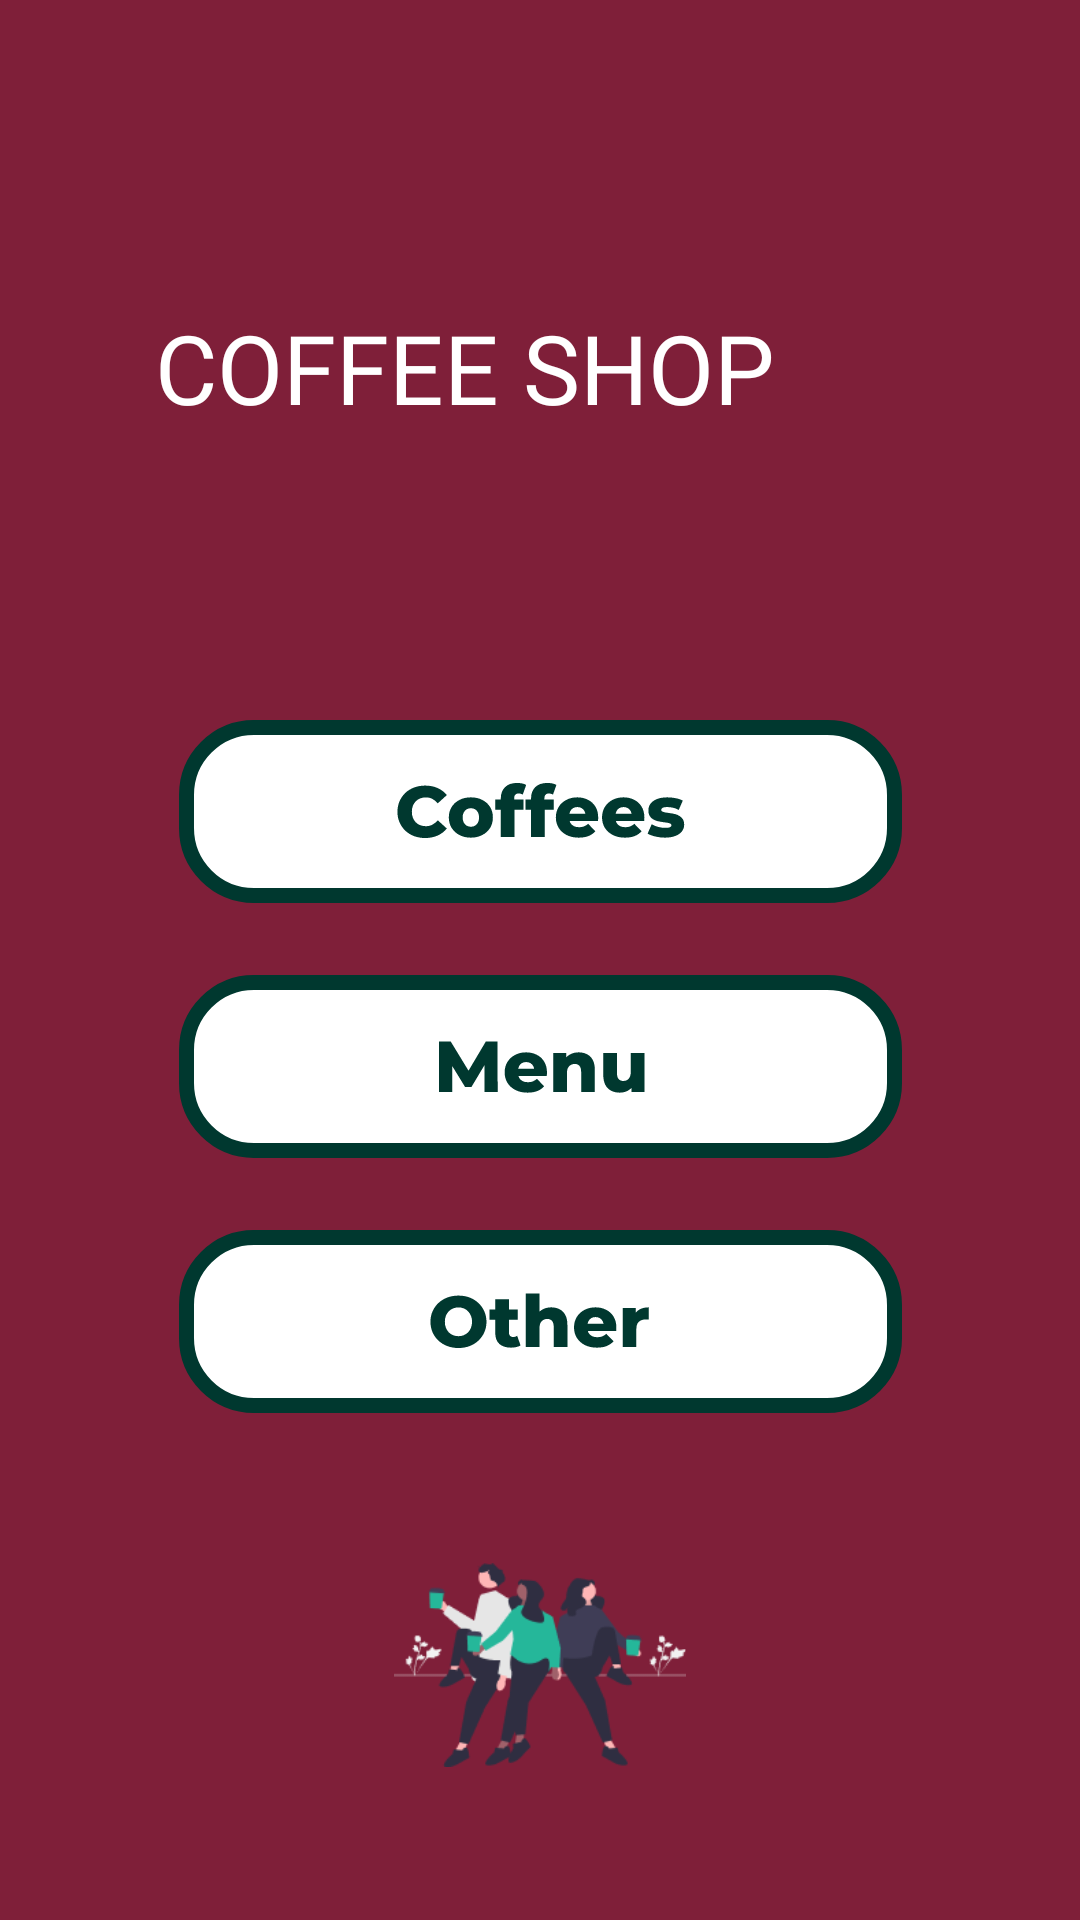

Where icons sit on this 1080x1920 app screen, as (x1, y1, x2, y2):
coffee with friends: (394, 1563, 686, 1767)
